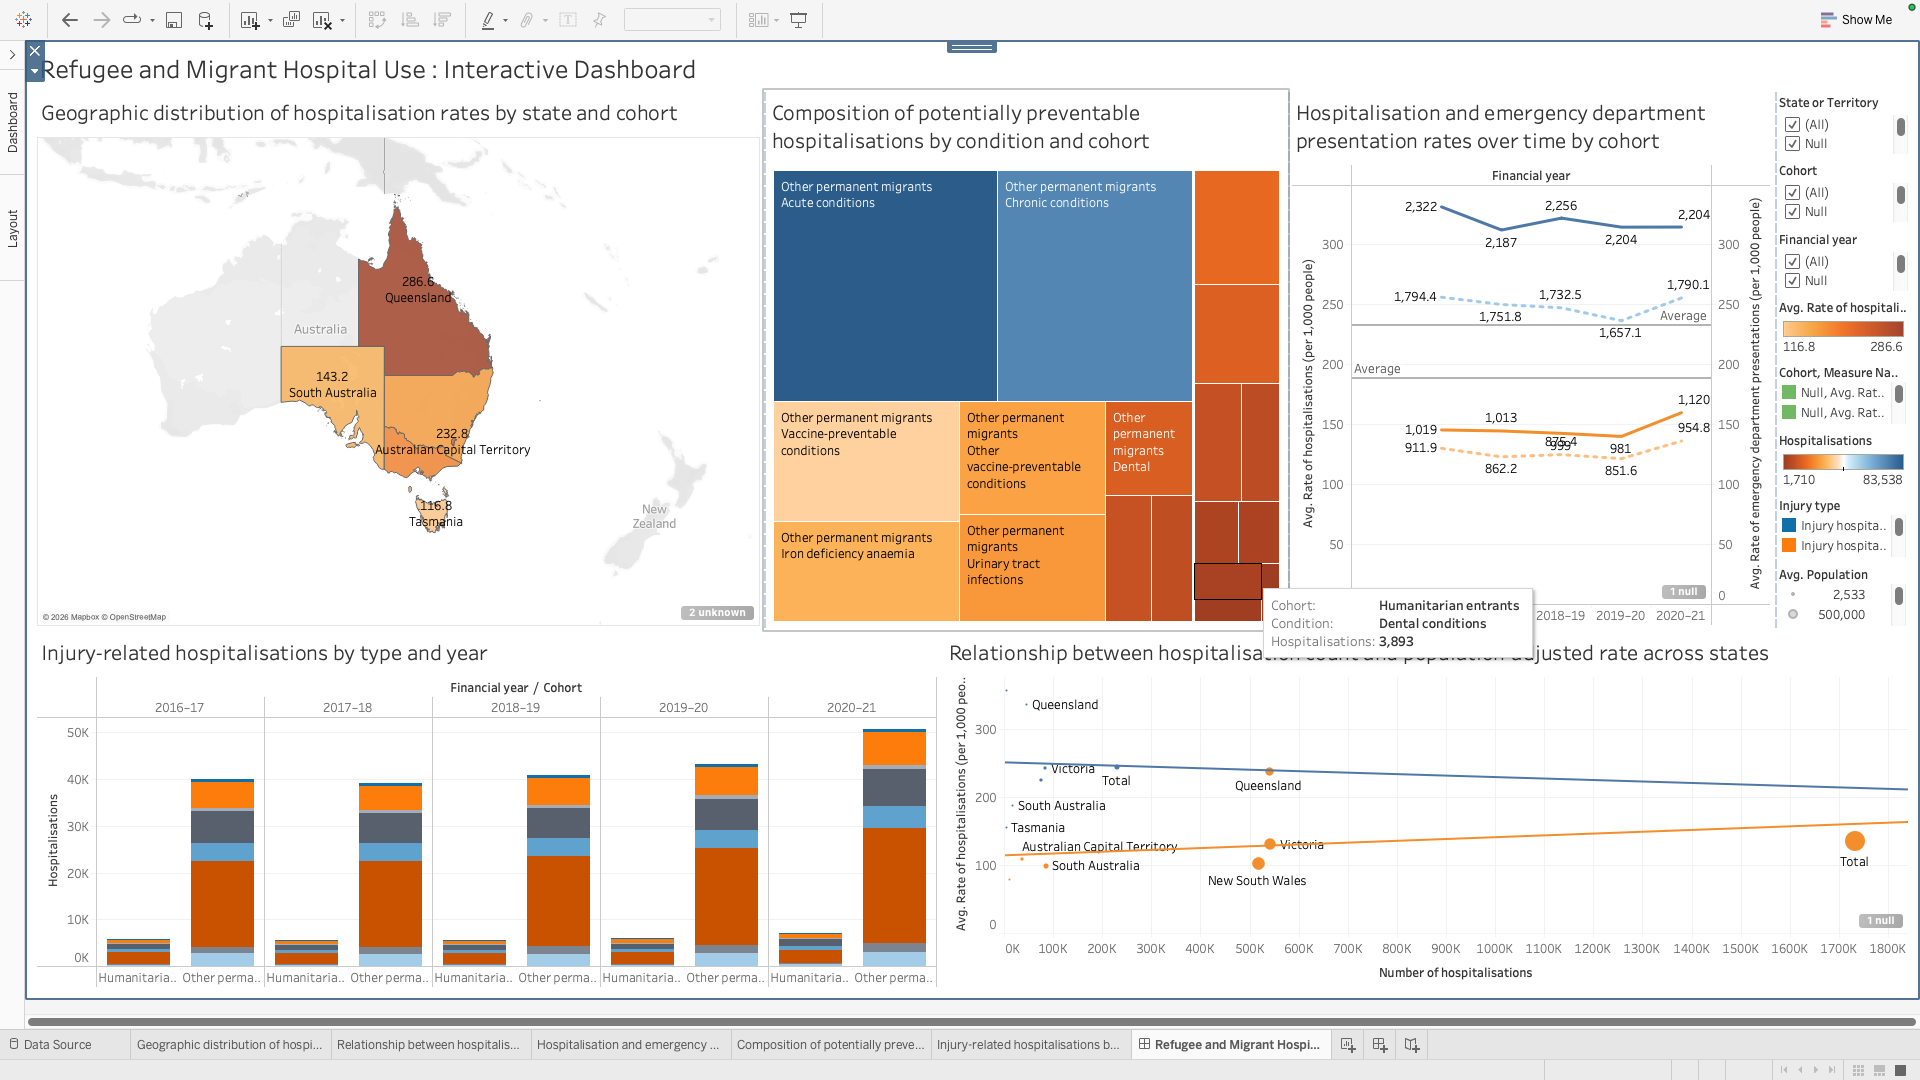

Layout of this report page (visuals, bound fields, positions):
{"tool":"tableau","page":{"name":"Refugee and Migrant Hospital Use : Interactive Dashboard","canvas":[1000,1000],"units":"permille","ordinal":0},"visuals":[{"type":"title","box":[4.2,8.3,991.6,43.8]},{"type":"worksheet","title":"Geographic distribution of hospitalisation rates by state and cohort","mark":"Multipolygon","box":[4.2,52.1,385.8,562.5]},{"type":"worksheet","title":"Composition of potentially preventable hospitalisations by condition and cohort","mark":"Automatic","box":[390,52.1,281.3,562.5]},{"type":"worksheet","title":"Hospitalisation and emergency department presentation rates over time by cohort","mark":"Line","rows":["Rate of hospitalisations (per 1,000 people)","Rate of emergency department presentations (per 1,000 people"],"cols":["Financial year"],"box":[671.2,52.1,252.2,562.5]},{"type":"filter","title":"Geographic distribution of hospitalisation rates by state and cohort","param":"[federated.1qh1kbe0w5rk6l1551me50tsp5cc].[none:State or Territory :nk]","box":[923.5,52.1,72.3,71.2]},{"type":"filter","title":"Geographic distribution of hospitalisation rates by state and cohort","param":"[federated.1qh1kbe0w5rk6l1551me50tsp5cc].[none:Cohort:nk]","box":[923.5,123.2,72.3,71.2]},{"type":"filter","title":"Geographic distribution of hospitalisation rates by state and cohort","param":"[federated.1qh1kbe0w5rk6l1551me50tsp5cc].[none:Financial year:nk]","box":[923.5,194.4,72.3,71.2]},{"type":"legend","title":"Geographic distribution of hospitalisation rates by state and cohort","param":"[federated.1qh1kbe0w5rk6l1551me50tsp5cc].[avg:Rate of hospitalisations (per 1,00","box":[923.5,265.6,72.3,67.7]},{"type":"legend","title":"Hospitalisation and emergency department presentation rates over time by cohort","param":"[federated.1qh1kbe0w5rk6l1551me50tsp5cc].[none:Cohort:nk]\n[federated.1qh1kbe0w5r","box":[923.5,333.3,72.3,71.2]},{"type":"legend","title":"Composition of potentially preventable hospitalisations by condition and cohort","param":"[federated.1vc7wgf14s4b6r1880z8g0y3c4xd].[sum:Pivot Field Values:qk]","box":[923.5,404.5,72.3,67.7]},{"type":"legend","title":"Injury-related hospitalisations by type and year","param":"[federated.0ewxnej08rfohp113v97m19ygsa8].[none:Pivot Field Names:nk]","box":[923.5,472.2,72.3,71.2]},{"type":"legend","title":"Relationship between hospitalisation count and population-adjusted rate across states","param":"[federated.1qh1kbe0w5rk6l1551me50tsp5cc].[avg:Population:qk]","box":[923.5,543.4,72.3,71.2]},{"type":"worksheet","title":"Injury-related hospitalisations by type and year","mark":"Automatic","rows":["Pivot Field Values"],"cols":["Financial year","Cohort"],"box":[4.2,614.6,479.1,377.1]},{"type":"worksheet","title":"Relationship between hospitalisation count and population-adjusted rate across states","mark":"Circle","rows":["Rate of hospitalisations (per 1,000 people)"],"cols":["Number of hospitalisations"],"box":[483.3,614.6,512.4,377.1]}]}

Visuals, with their boxes on the dashboard's canvas, which has no fixed pixel size, in thousandths of its width and height (x1, y1, x2, y2). These are canvas units, not pixel positions in the 1920x1080 screenshot, which may show the page scaled, cropped or inside an application window:
title: {"left": 4, "top": 8, "right": 996, "bottom": 52}
"Geographic distribution of hospitalisation rates by state and cohort" worksheet (Multipolygon marks): {"left": 4, "top": 52, "right": 390, "bottom": 615}
"Composition of potentially preventable hospitalisations by condition and cohort" worksheet: {"left": 390, "top": 52, "right": 671, "bottom": 615}
"Hospitalisation and emergency department presentation rates over time by cohort" worksheet (Line marks): {"left": 671, "top": 52, "right": 923, "bottom": 615}
"Geographic distribution of hospitalisation rates by state and cohort" filter: {"left": 924, "top": 52, "right": 996, "bottom": 123}
"Geographic distribution of hospitalisation rates by state and cohort" filter: {"left": 924, "top": 123, "right": 996, "bottom": 194}
"Geographic distribution of hospitalisation rates by state and cohort" filter: {"left": 924, "top": 194, "right": 996, "bottom": 266}
"Geographic distribution of hospitalisation rates by state and cohort" legend: {"left": 924, "top": 266, "right": 996, "bottom": 333}
"Hospitalisation and emergency department presentation rates over time by cohort" legend: {"left": 924, "top": 333, "right": 996, "bottom": 404}
"Composition of potentially preventable hospitalisations by condition and cohort" legend: {"left": 924, "top": 404, "right": 996, "bottom": 472}
"Injury-related hospitalisations by type and year" legend: {"left": 924, "top": 472, "right": 996, "bottom": 543}
"Relationship between hospitalisation count and population-adjusted rate across states" legend: {"left": 924, "top": 543, "right": 996, "bottom": 615}
"Injury-related hospitalisations by type and year" worksheet: {"left": 4, "top": 615, "right": 483, "bottom": 992}
"Relationship between hospitalisation count and population-adjusted rate across states" worksheet (Circle marks): {"left": 483, "top": 615, "right": 996, "bottom": 992}
